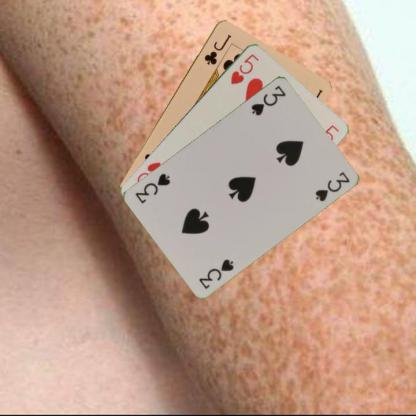3s: (249, 82, 287, 117), (196, 256, 235, 290)
5h: (228, 51, 260, 85)
Jc: (201, 31, 233, 66)
